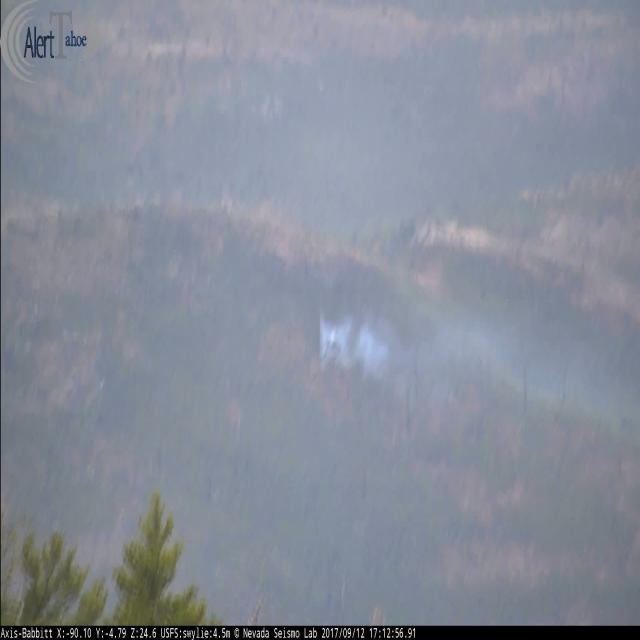smoke: (320, 306, 455, 405)
